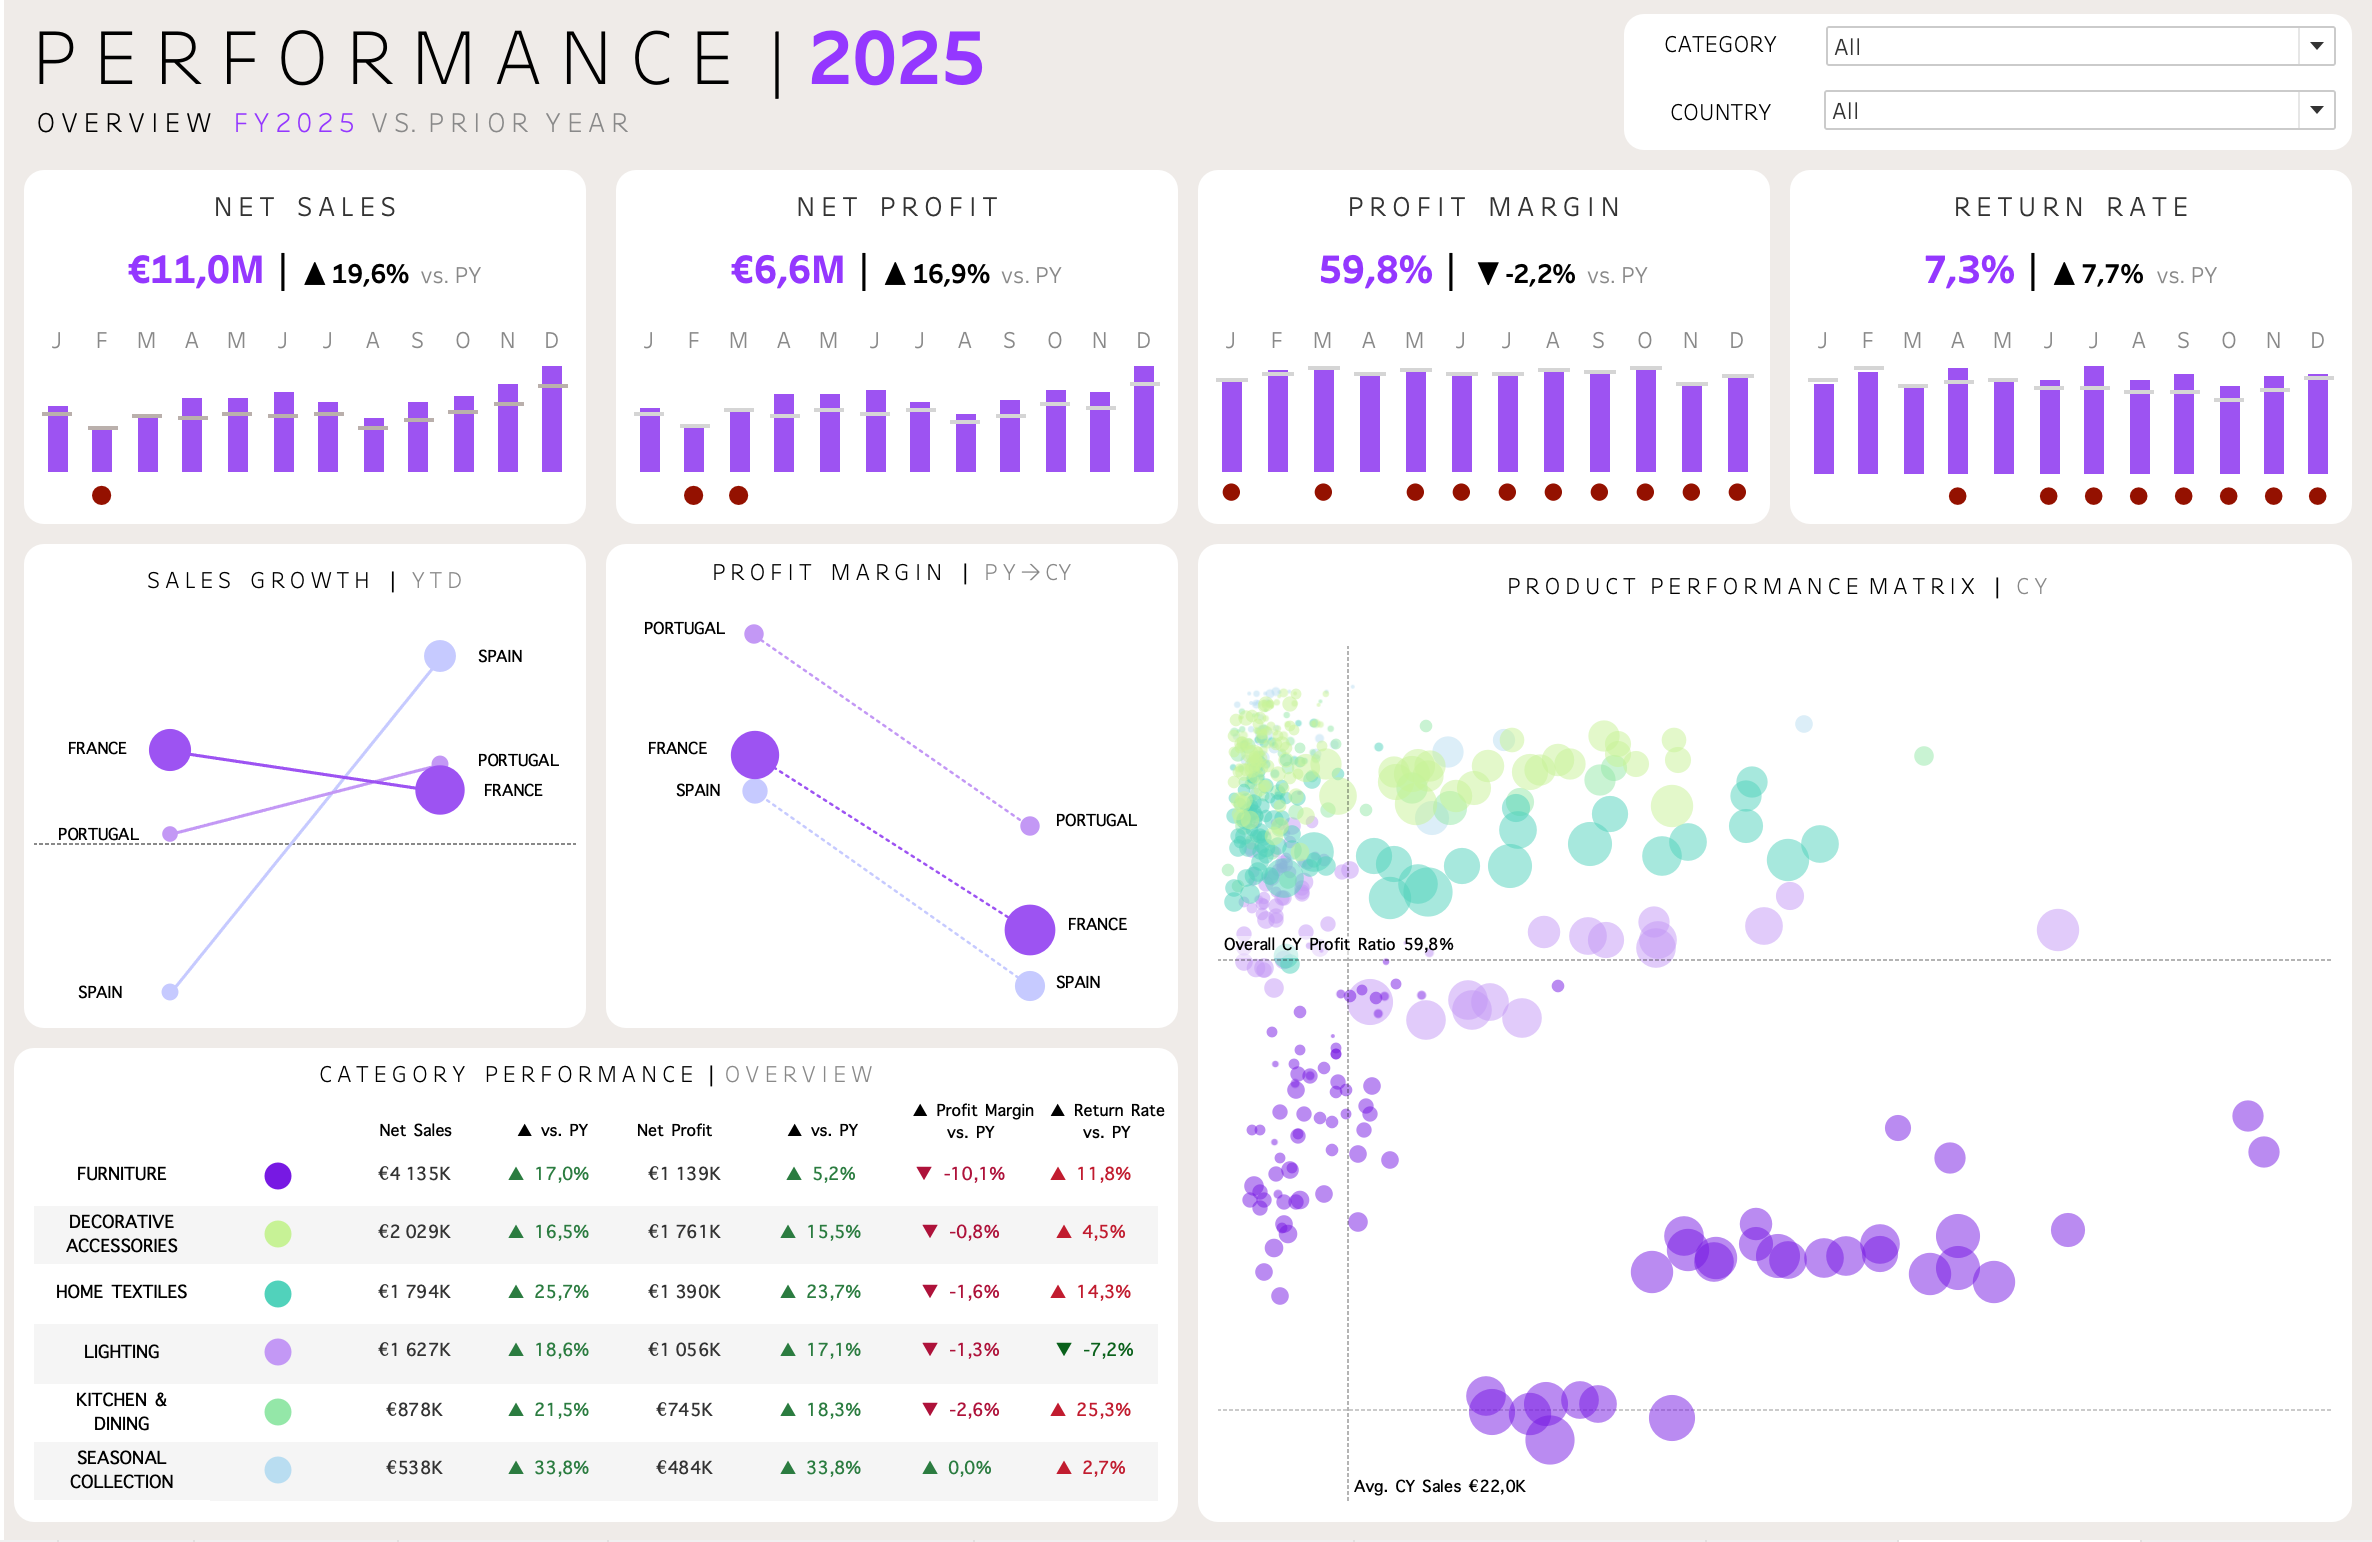

Layout of this report page (visuals, bound fields, positions):
{"tool":"tableau","page":{"name":"Perfomance DB","canvas":[1200,800],"ordinal":0},"visuals":[{"type":"text","box":[8,8,804.9,79.1]},{"type":"text","box":[813,8,102,39.5]},{"type":"parameter","param":"[Parameters].[Select Country (copy)_0041656110927872]","box":[915,8,277,39.5]},{"type":"text","box":[813,47.5,102,39.5]},{"type":"parameter","param":"[Parameters].[Parameter 1]","box":[915,47.5,277,39.5]},{"type":"worksheet","title":"KPI Sales","mark":"Bar","rows":["Calculation_0050380730368000","Calculation_0050380730576897"],"cols":["order_date","KPI Less Return (copy)_0042341665783833"],"box":[8,87,296,194]},{"type":"worksheet","title":"KPI Profit","mark":"Bar","rows":["Calculation_0050380759289862","CY Profit (copy)_0050380759445511"],"cols":["order_date","KPI Less Sales (copy)_0039181942050817"],"box":[304,87,296,194]},{"type":"worksheet","title":"KPI Profit Ratio","mark":"Bar","rows":["CY Profit (copy)_0056566499082291","PY Profit (copy)_0056566499205172"],"cols":["order_date","KPI Less Return (copy)_0060003173576724"],"box":[600,87,296,194]},{"type":"worksheet","title":"KPI Return Rate","mark":"Bar","rows":["CY Profit Ratio (copy)_0042341607690247","PY Profit Ratio (copy)_0042341607858184"],"cols":["order_date","KPI Less Profit Ratio (copy)_0039181948469257"],"box":[896,87,296,194]},{"type":"text","box":[8,281.4,296,40]},{"type":"text","box":[304,281.4,296,32.3]},{"type":"text","box":[600,281.4,592,46.7]},{"type":"worksheet","title":"Profit Ratio Growth by Country","mark":"Line","rows":["Start End Cumul Sales (copy)_0041451810000902","Start End Cumul Sales (copy)_0041451810000902"],"cols":["order_date"],"box":[304,313.7,296,223]},{"type":"worksheet","title":"YTD Sales Growth by Country","mark":"Line","cols":["order_date"],"box":[8,321.4,296,215.3]},{"type":"worksheet","title":"Product Performance Matrix","mark":"Automatic","rows":["CY Profit (copy)_0056566499082291"],"cols":["Calculation_0050380730368000"],"box":[600,328.1,592,463.9]},{"type":"text","box":[8,536.7,592,31.5]},{"type":"blank","box":[8,568.2,168,23]},{"type":"text","box":[176,568.2,76,23]},{"type":"text","box":[252,568.2,60,23]},{"type":"text","box":[312,568.2,63,23]},{"type":"text","box":[375,568.2,84,23]},{"type":"text","box":[459,568.2,65,23]},{"type":"text","box":[524,568.2,76,23]},{"type":"worksheet","title":"Data Category","mark":"Text","rows":["category"],"cols":["Calculation_0043582452359169","Calculation_0043101363408906","Calculation_0043101363593228","Calculation_0043101364043790","Calculation_0043101364203536","Calculation_0043101364293650","Calculation_0043101364658198"],"box":[8,591.2,592,200.8]}]}

Visuals, with their boxes in screenshot pixels (x1, y1, x2, y2), scaled from the page's 1200x800 canvas onto the 2372x1542 screenshot:
text: [left=16, top=15, right=1607, bottom=168]
text: [left=1607, top=15, right=1809, bottom=92]
parameter: [left=1809, top=15, right=2356, bottom=92]
text: [left=1607, top=92, right=1809, bottom=168]
parameter: [left=1809, top=92, right=2356, bottom=168]
"KPI Sales" worksheet (Bar marks): [left=16, top=168, right=601, bottom=542]
"KPI Profit" worksheet (Bar marks): [left=601, top=168, right=1186, bottom=542]
"KPI Profit Ratio" worksheet (Bar marks): [left=1186, top=168, right=1771, bottom=542]
"KPI Return Rate" worksheet (Bar marks): [left=1771, top=168, right=2356, bottom=542]
text: [left=16, top=542, right=601, bottom=619]
text: [left=601, top=542, right=1186, bottom=605]
text: [left=1186, top=542, right=2356, bottom=632]
"Profit Ratio Growth by Country" worksheet (Line marks): [left=601, top=605, right=1186, bottom=1034]
"YTD Sales Growth by Country" worksheet (Line marks): [left=16, top=619, right=601, bottom=1034]
"Product Performance Matrix" worksheet: [left=1186, top=632, right=2356, bottom=1527]
text: [left=16, top=1034, right=1186, bottom=1095]
blank: [left=16, top=1095, right=348, bottom=1140]
text: [left=348, top=1095, right=498, bottom=1140]
text: [left=498, top=1095, right=617, bottom=1140]
text: [left=617, top=1095, right=741, bottom=1140]
text: [left=741, top=1095, right=907, bottom=1140]
text: [left=907, top=1095, right=1036, bottom=1140]
text: [left=1036, top=1095, right=1186, bottom=1140]
"Data Category" worksheet (Text marks): [left=16, top=1140, right=1186, bottom=1527]
